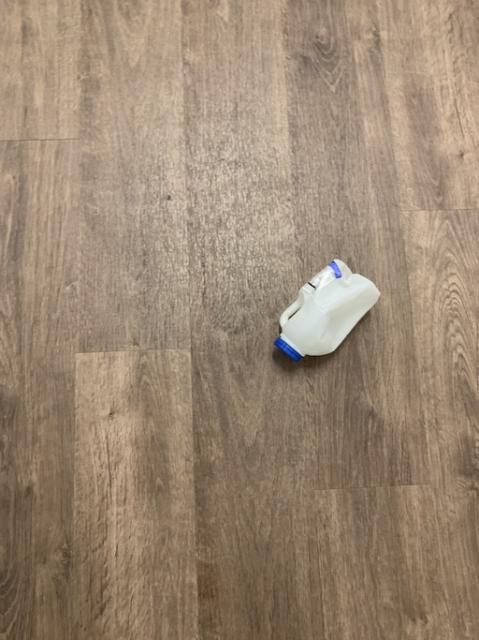plastic: (274, 259, 379, 360)
